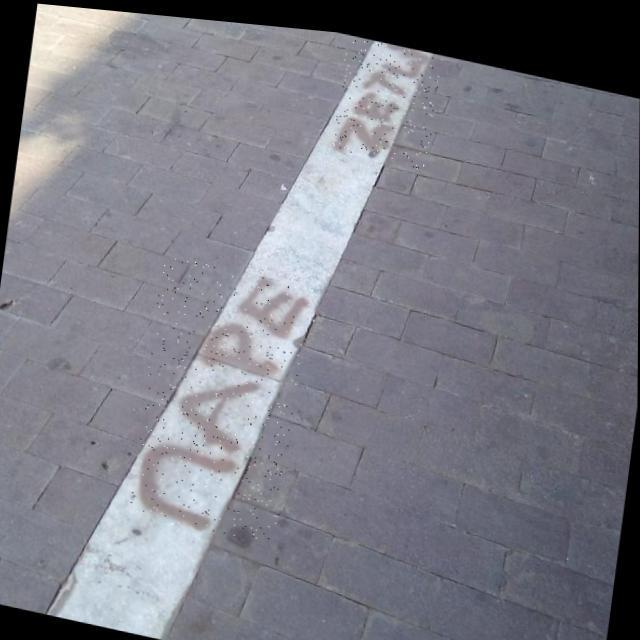-: (130, 249, 310, 541), (332, 27, 442, 164)
